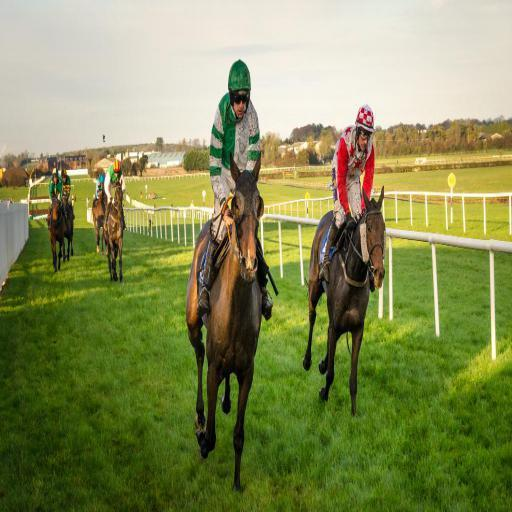horse: (186, 152, 266, 496), (303, 188, 388, 416), (104, 178, 126, 281), (46, 186, 64, 274), (90, 188, 110, 254), (62, 194, 75, 260)
